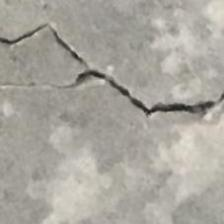Crack: (0, 18, 224, 121)
